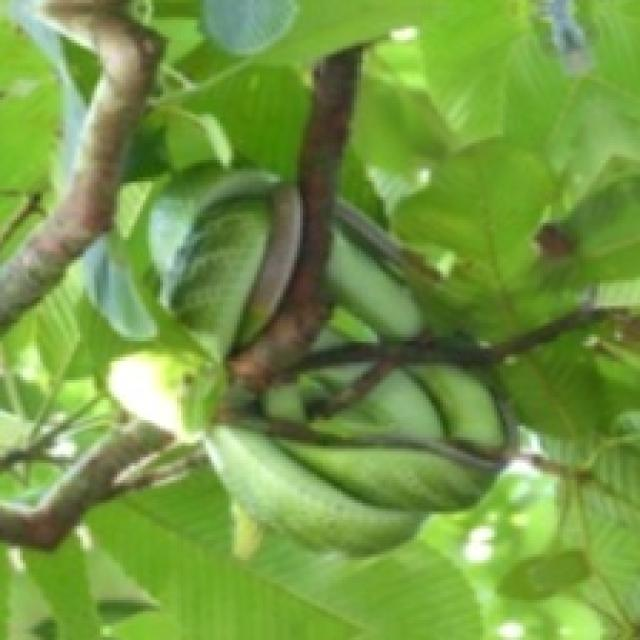red-tailed green ratsnake: (84, 164, 509, 554)
